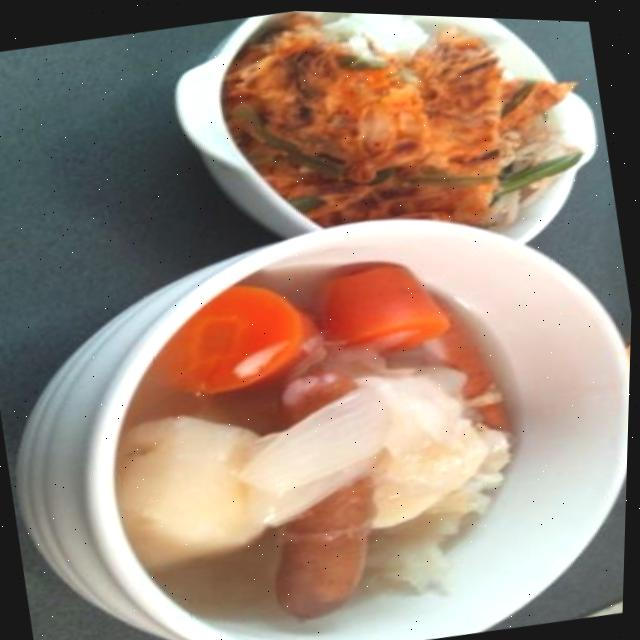汤锅炖物: (48, 195, 636, 640)
